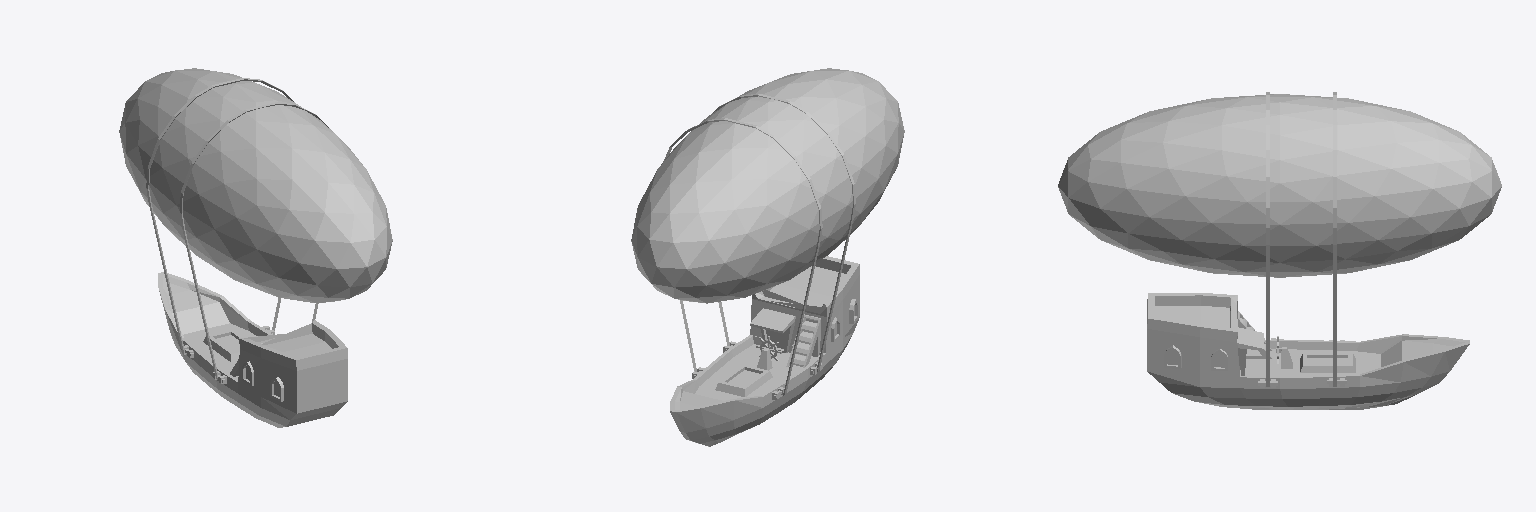
Rendered from Arab.obj.
3 renders of one model, left to right at view 1: azimuth 30°, elevation 25°; view 2: azimuth 150°, elevation 25°; view 3: azimuth 270°, elevation 25°, orthographic.
Visible parts, largest first — view 1: Cube.002; view 2: Cube.002; view 3: Cube.002.
Boxes of the visible parts, box(x1,y1,x2,y2) form: Cube.002: box(119, 68, 392, 427); Cube.002: box(631, 68, 904, 446); Cube.002: box(1058, 92, 1501, 409).
Size of the model in its own units: 5.8 by 10.48 by 13.75.